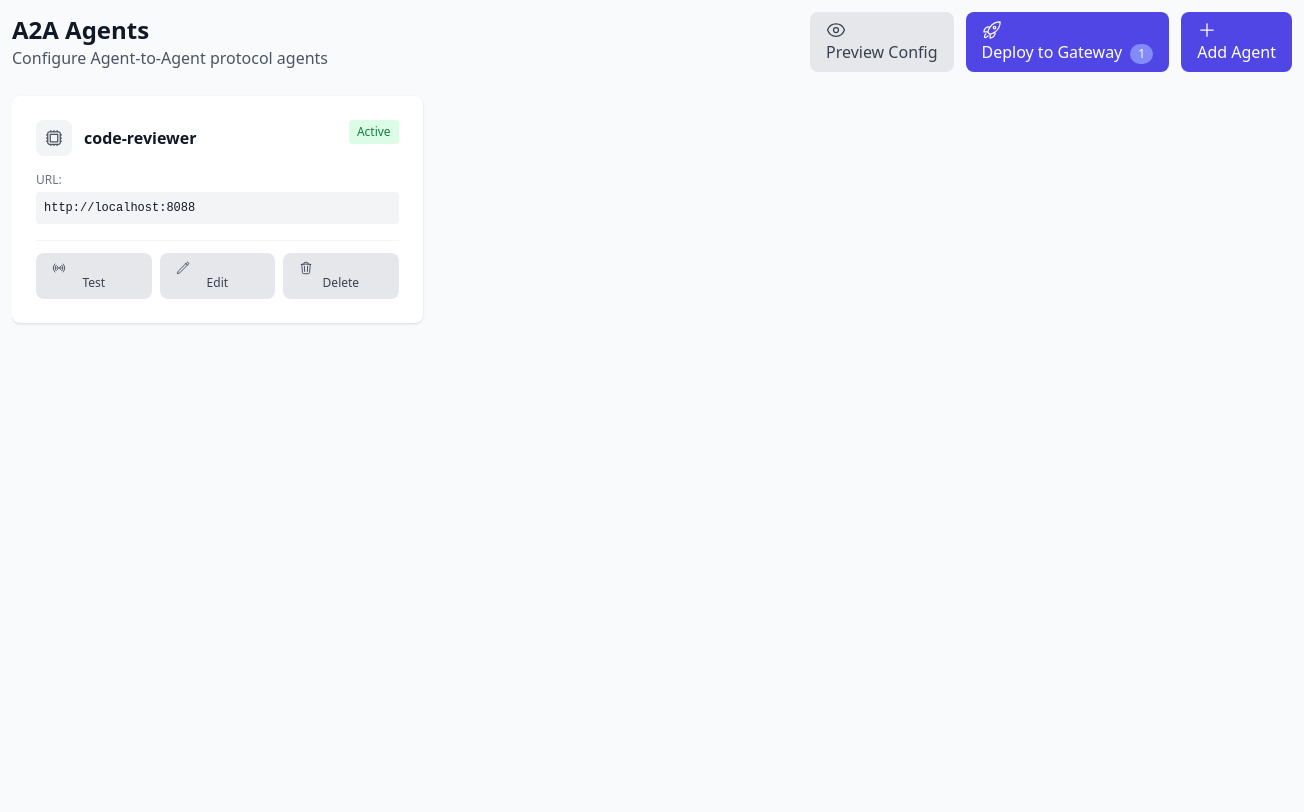
Scenario: Agents › opens create form when Add Agent is clicked
Click the button "Add Agent".
click(1237, 42)  # box [1181, 12, 1292, 72]
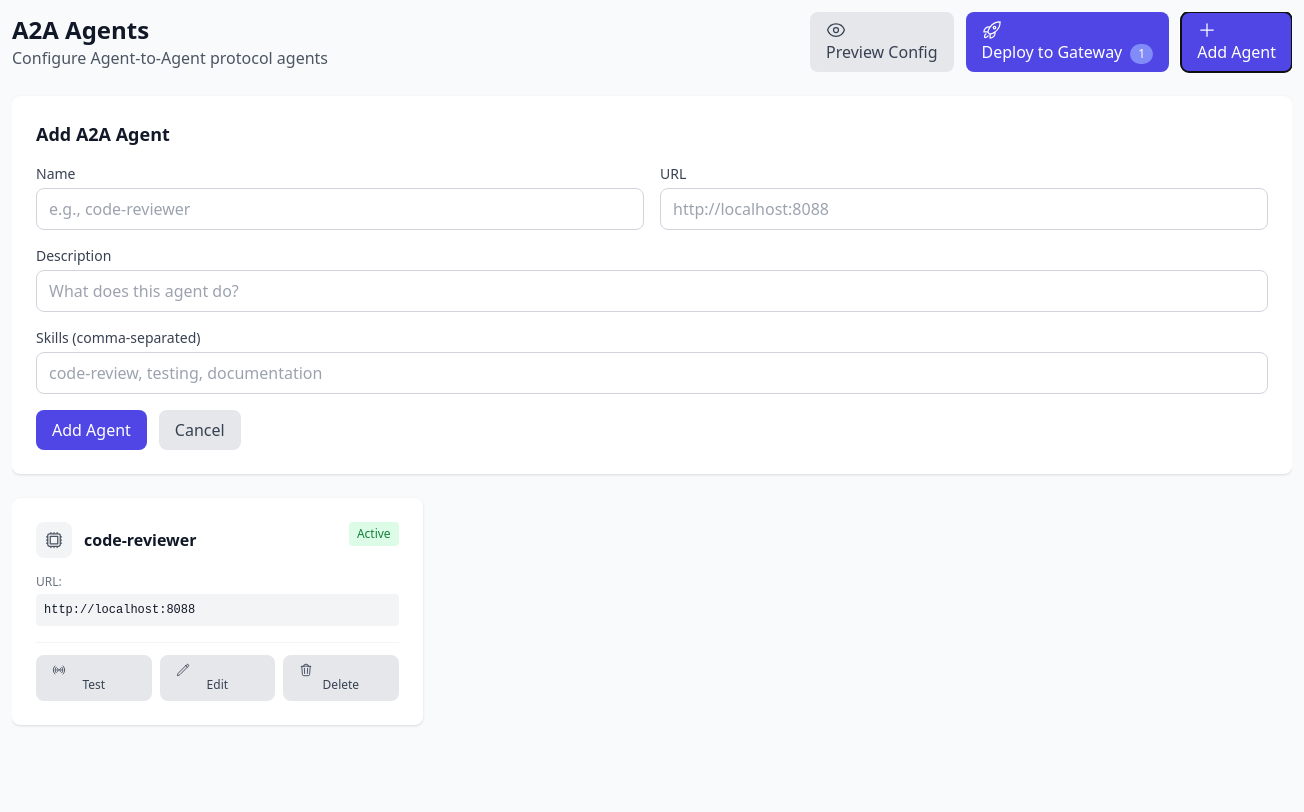
Expected: the heading "Add A2A Agent" is shown, [36, 122, 170, 146]
Expected: the field labelled "Name" is shown, [36, 188, 644, 230]
Expected: the field labelled "URL" is shown, [660, 188, 1268, 230]
